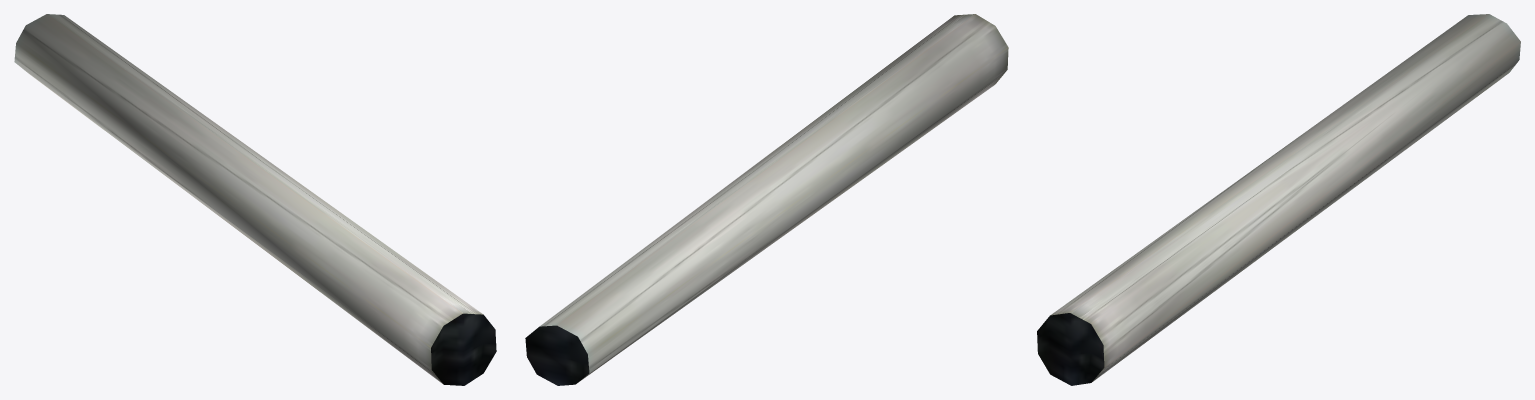
The model's file is ITMI_JOINT_US.glb.
The picture shows the model from 3 angles, left to right: view 1: azimuth 30°, elevation 25°; view 2: azimuth 150°, elevation 25°; view 3: azimuth 330°, elevation 25°; orthographic projection.
Parts seen in each view (by area): view 1: Mesh; view 2: Mesh; view 3: Mesh.
Part boxes in pixels (x1,y1,x2,y2): Mesh: [14, 14, 496, 385]; Mesh: [525, 14, 1008, 385]; Mesh: [1037, 14, 1520, 385].
Size of the model in its own units: 0.0144 by 0.015 by 0.1566.
1 material, 1 textured.
